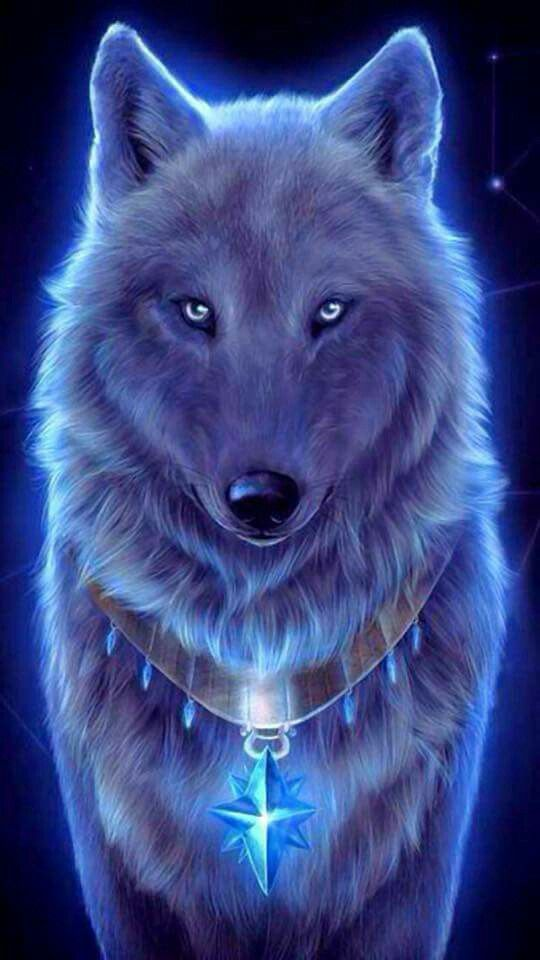Lobo: (51, 24, 493, 886)
